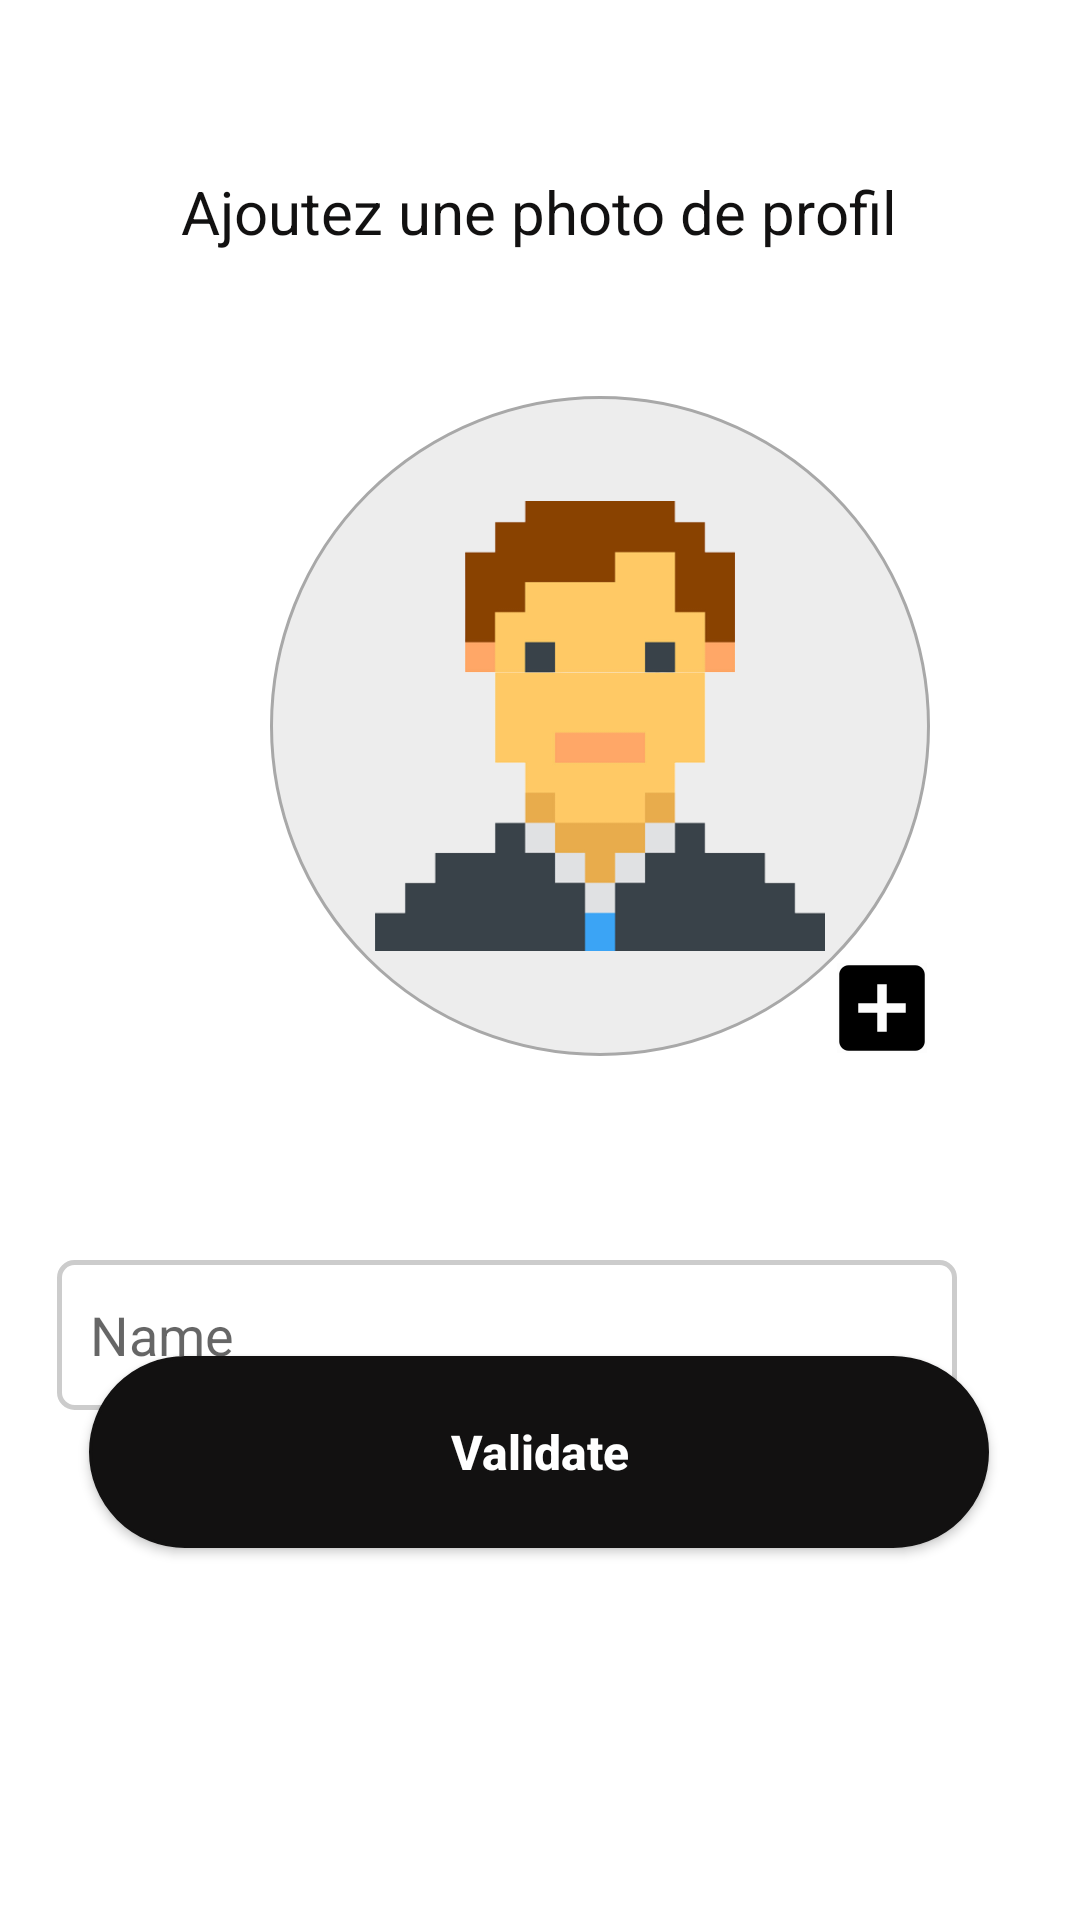

Where icons sit on this 1080px×1920px app screen, as (left=x1, top=y1, right=x2, bottom=y2):
addbox: (left=839, top=965, right=925, bottom=1051)
